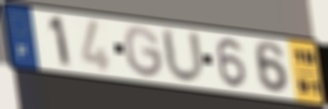1: (47, 15, 73, 69)
4: (79, 18, 113, 76)
6: (253, 40, 291, 97), (214, 36, 249, 90)
G: (122, 25, 166, 81)
U: (158, 26, 208, 87)
